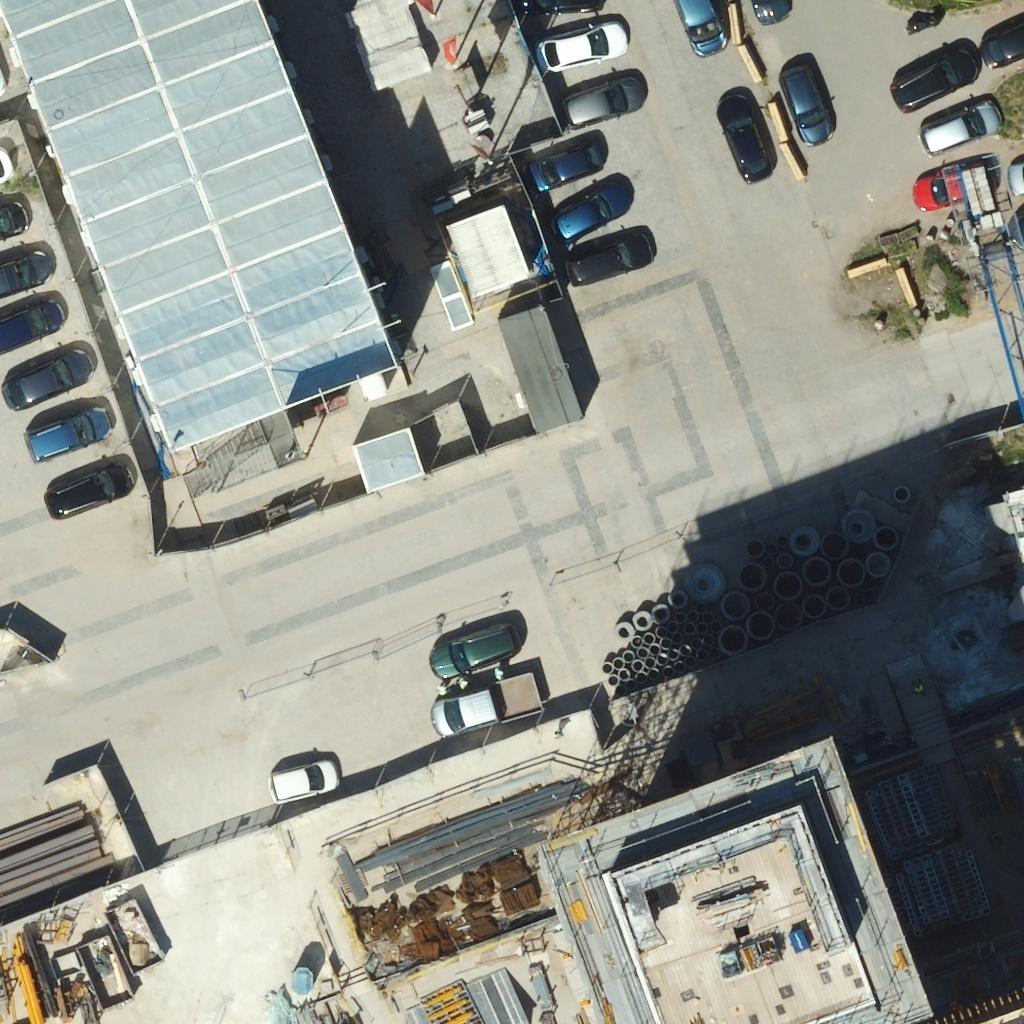samochod_osobowy: (432, 672, 542, 737), (891, 40, 979, 111), (716, 88, 776, 183), (3, 348, 94, 410), (535, 18, 628, 73), (431, 623, 520, 680), (780, 54, 835, 146), (45, 462, 134, 518), (553, 179, 631, 242), (26, 405, 112, 462), (567, 230, 653, 285), (922, 98, 1002, 155), (564, 74, 645, 127), (528, 144, 603, 191), (0, 301, 63, 353), (269, 758, 339, 803), (676, 0, 726, 56), (0, 251, 53, 298), (981, 14, 1023, 68), (913, 165, 960, 211), (512, 0, 604, 16), (0, 197, 28, 241), (751, 0, 791, 25), (965, 154, 995, 169)
